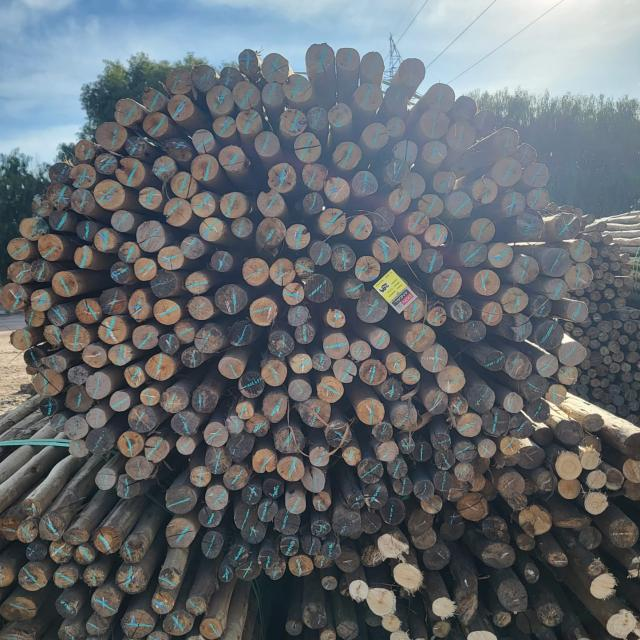package: (3, 45, 590, 582), (270, 413, 638, 640), (0, 496, 245, 640), (560, 202, 631, 321), (586, 317, 640, 424)
